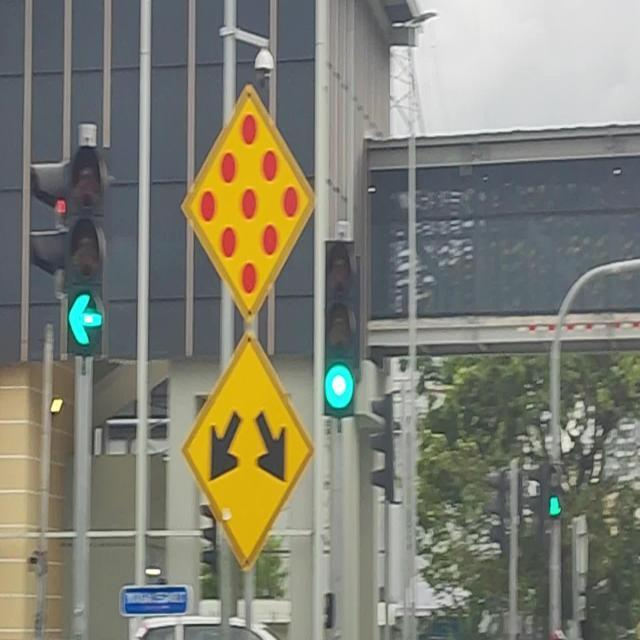green_light: (65, 146, 106, 358), (322, 241, 356, 417)
